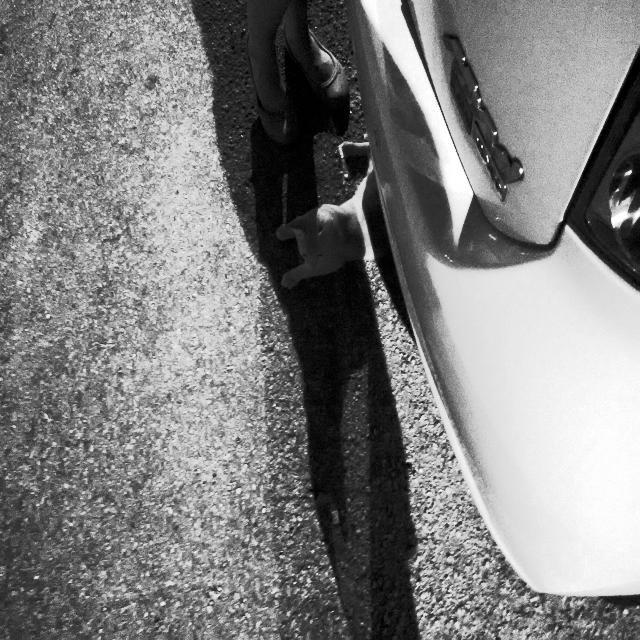Car: (330, 0, 640, 610)
Cat: (274, 178, 390, 286)
